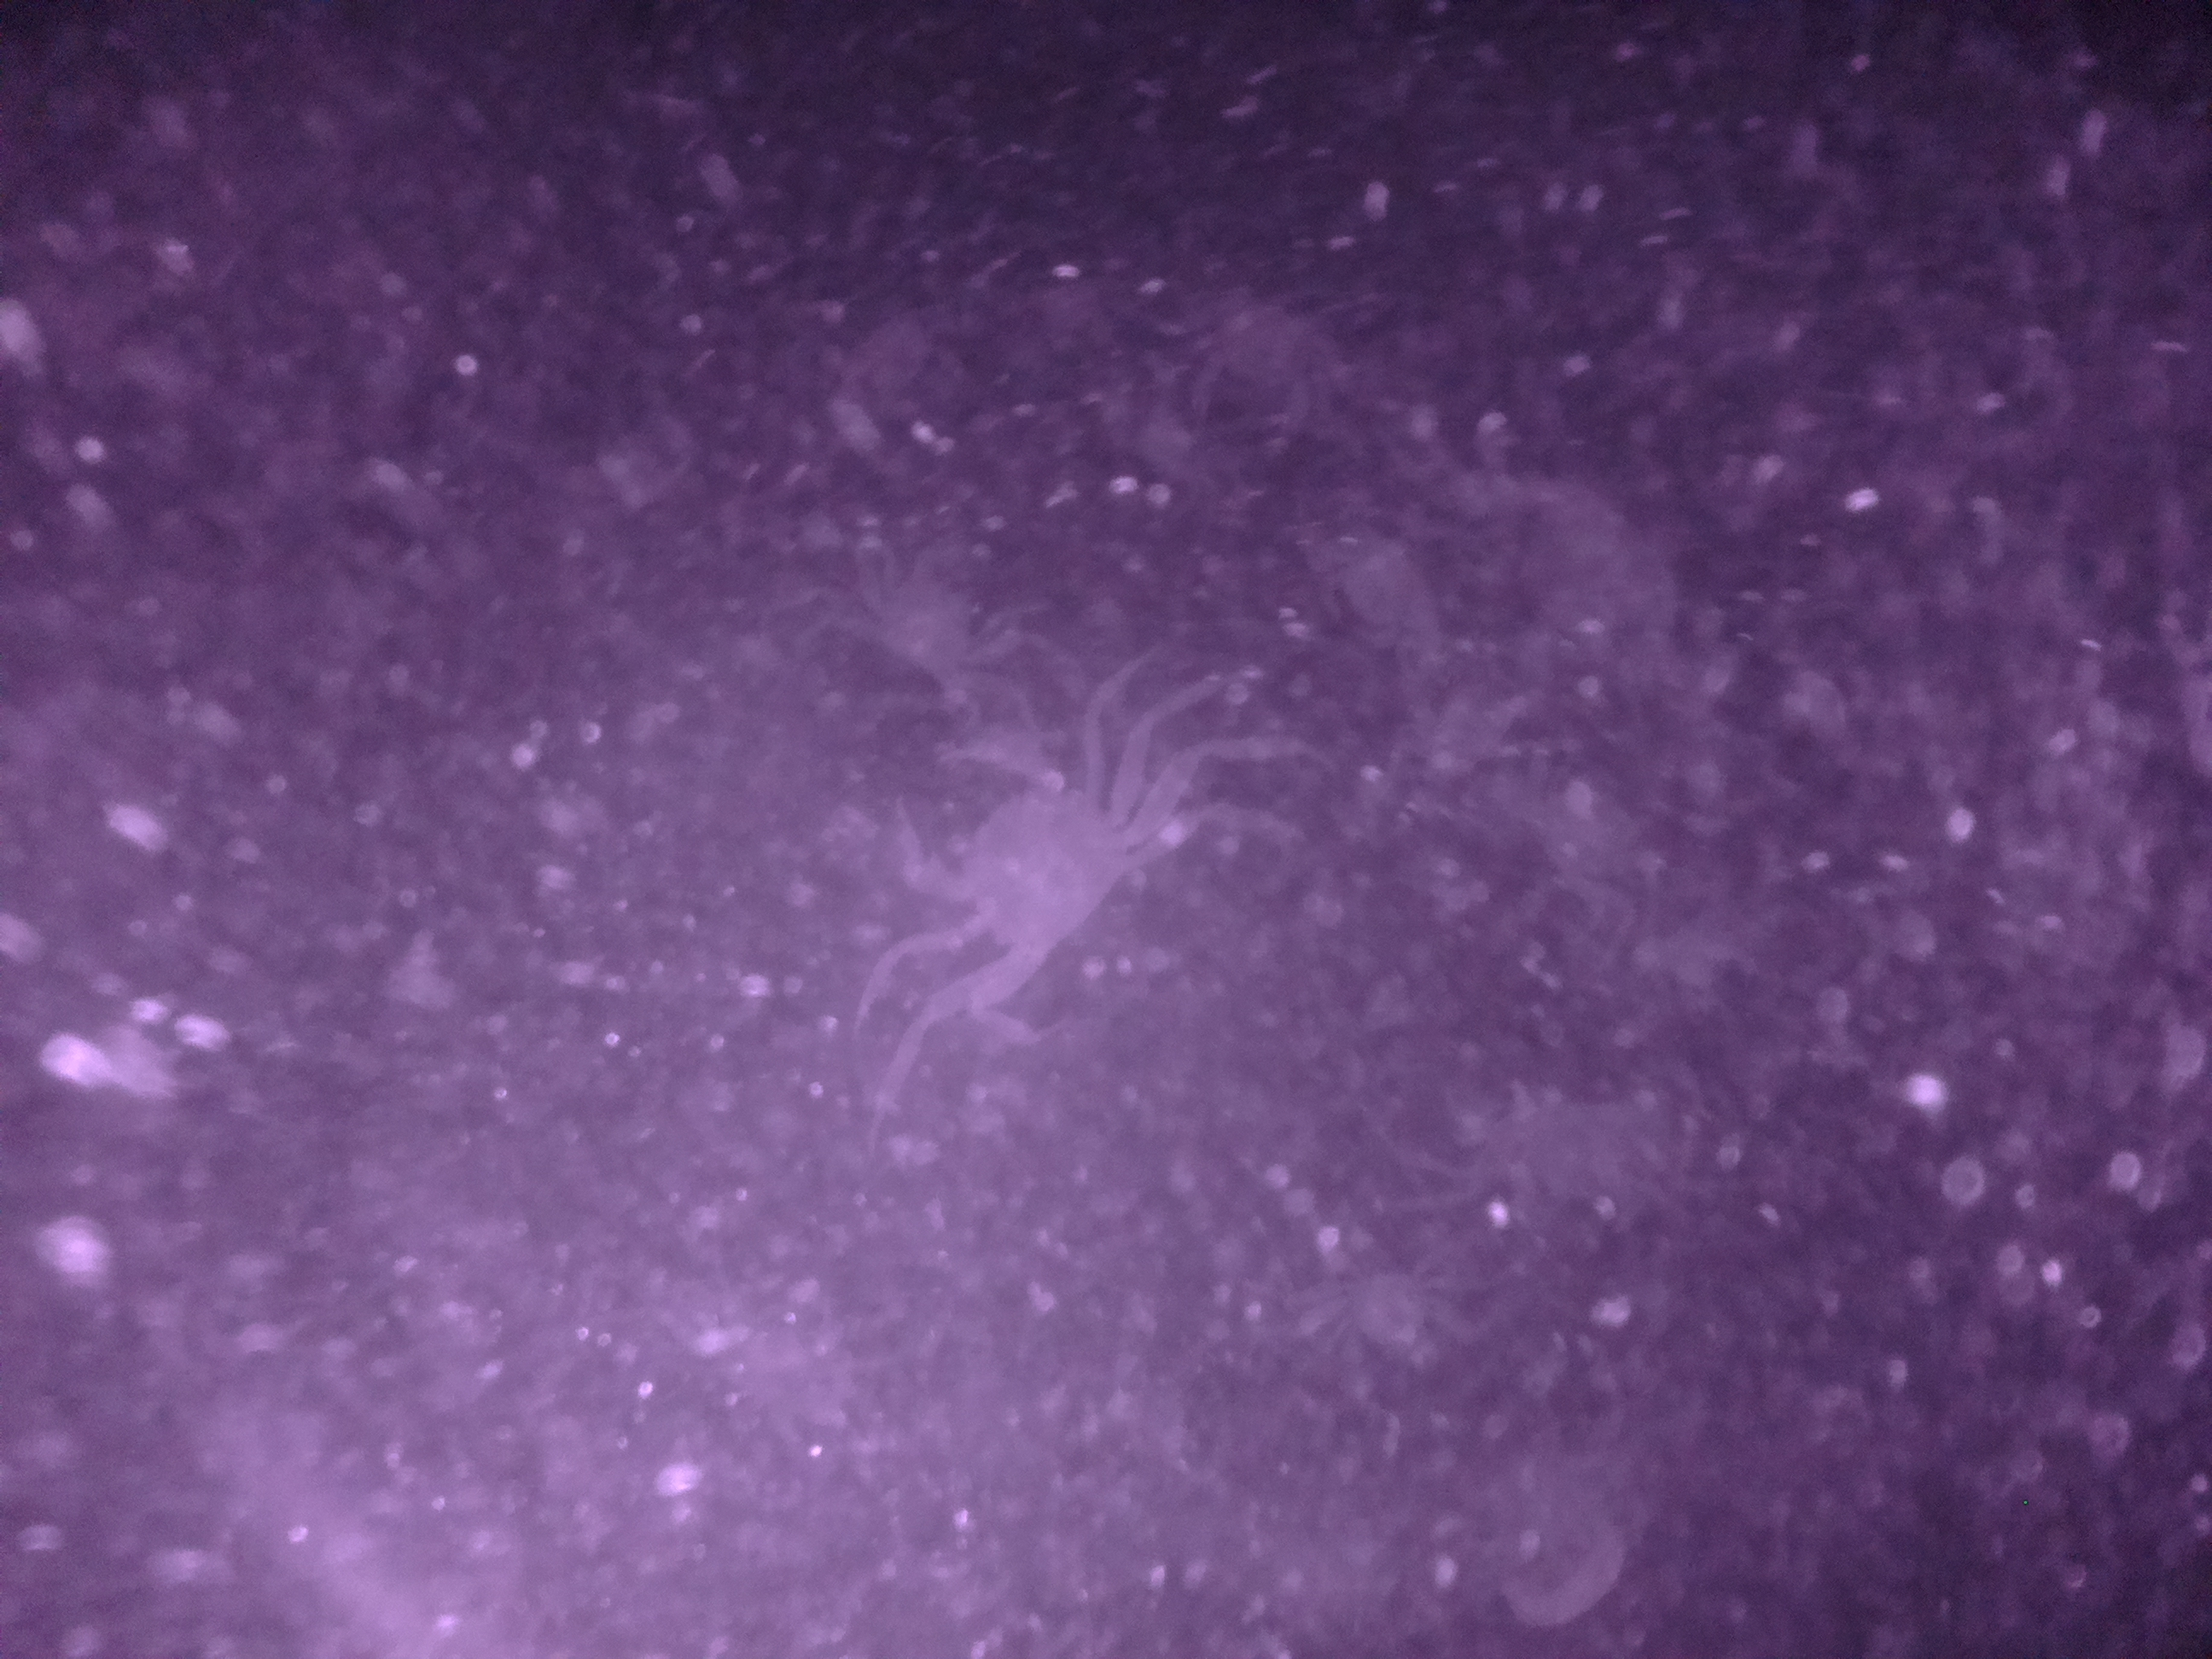Crab: (869, 699, 1163, 1011)
